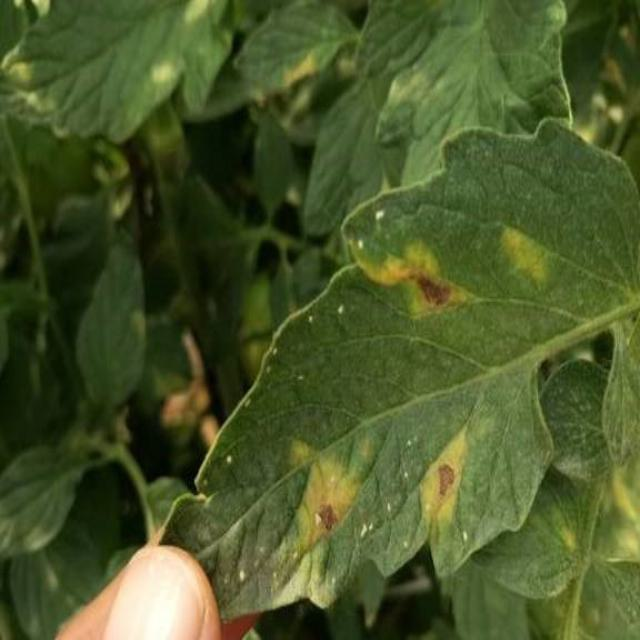Leaf_Mold: (277, 429, 377, 566), (347, 227, 478, 323), (409, 405, 489, 540), (597, 457, 640, 563), (499, 225, 548, 287), (276, 49, 319, 84)
